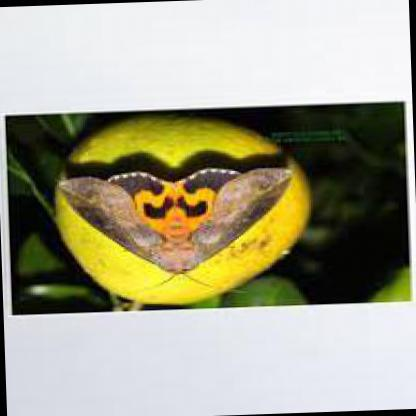fruit sucking moth: (59, 168, 295, 276)
